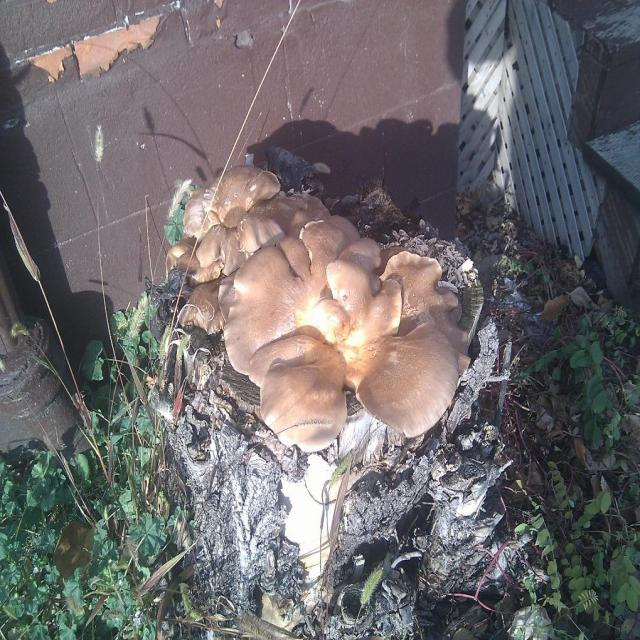Mushroom: (162, 176, 473, 497)
